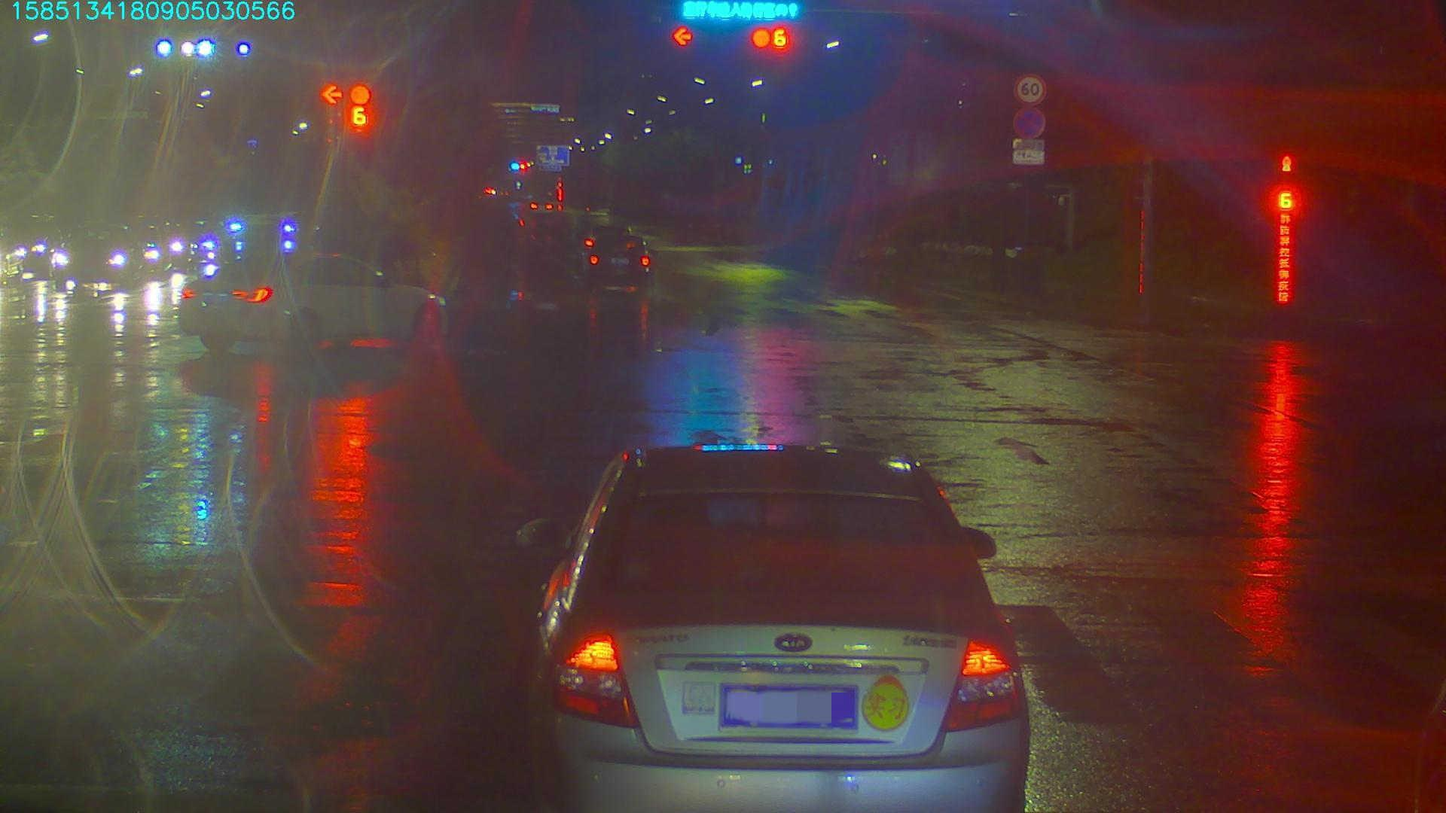red: (751, 26, 795, 51), (672, 29, 693, 50)
wait_on: (677, 2, 808, 27)
